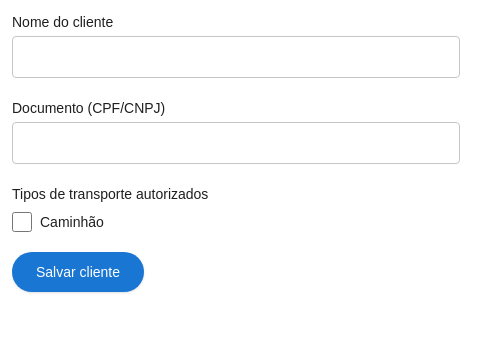
Test: CustomerForm › cria um cliente com sucesso e exibe a mensagem de confirmação
The width and height of the screenshot is (479, 350).
Expected: the checkbox labelled "Caminhão" is shown, [12,212,32,232]
In the field labelled "Nome do cliente": (236, 57) [12,36,460,78], type "Distribuidora Teste"
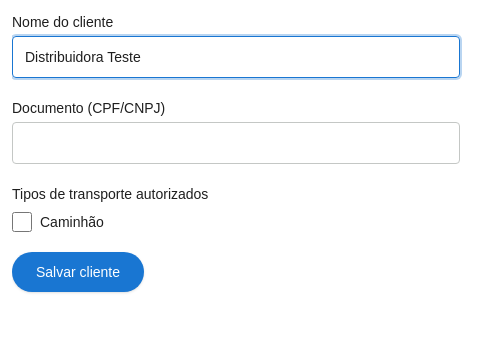
In the field labelled "Documento (CPF/CNPJ)": (236, 143) [12,122,460,164], type "12345678900"
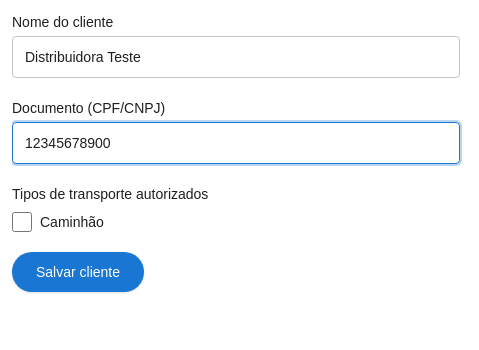
Click the checkbox labelled "Caminhão": (22, 222) [12,212,32,232]
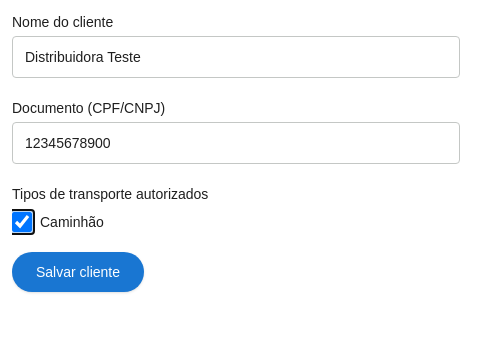
Click the button "Salvar cliente": (78, 272) [12,252,144,292]
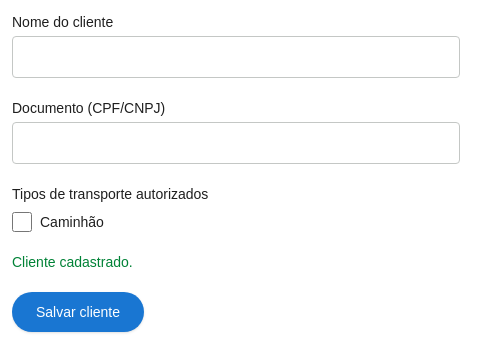
Expected: the text "Cliente cadastrado." is shown, [12,254,133,270]
